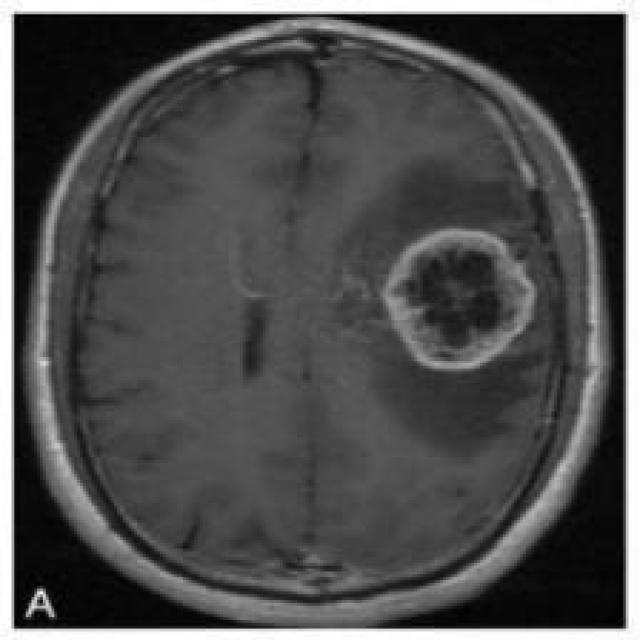Tumor: (383, 229, 540, 373)
